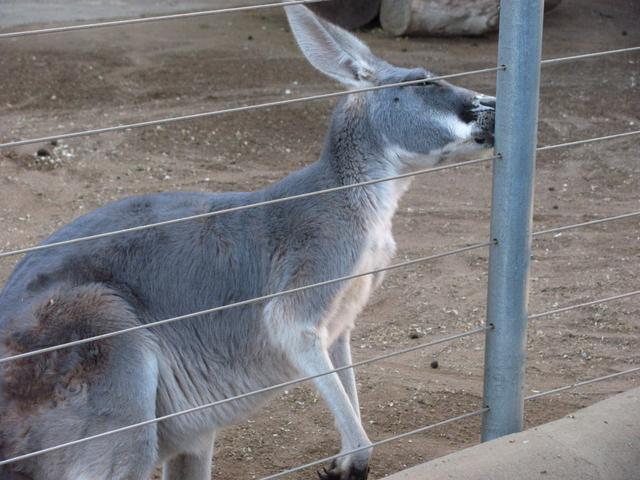kangaroo: (23, 5, 533, 466)
